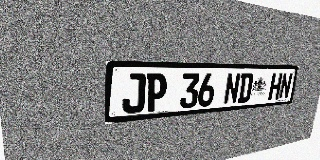3: (180, 73, 200, 109)
6: (197, 73, 216, 107)
D: (237, 73, 254, 103)
H: (268, 73, 283, 100)
J: (122, 73, 146, 114)
N: (223, 73, 241, 105), (278, 73, 293, 99)
P: (145, 73, 167, 112)
